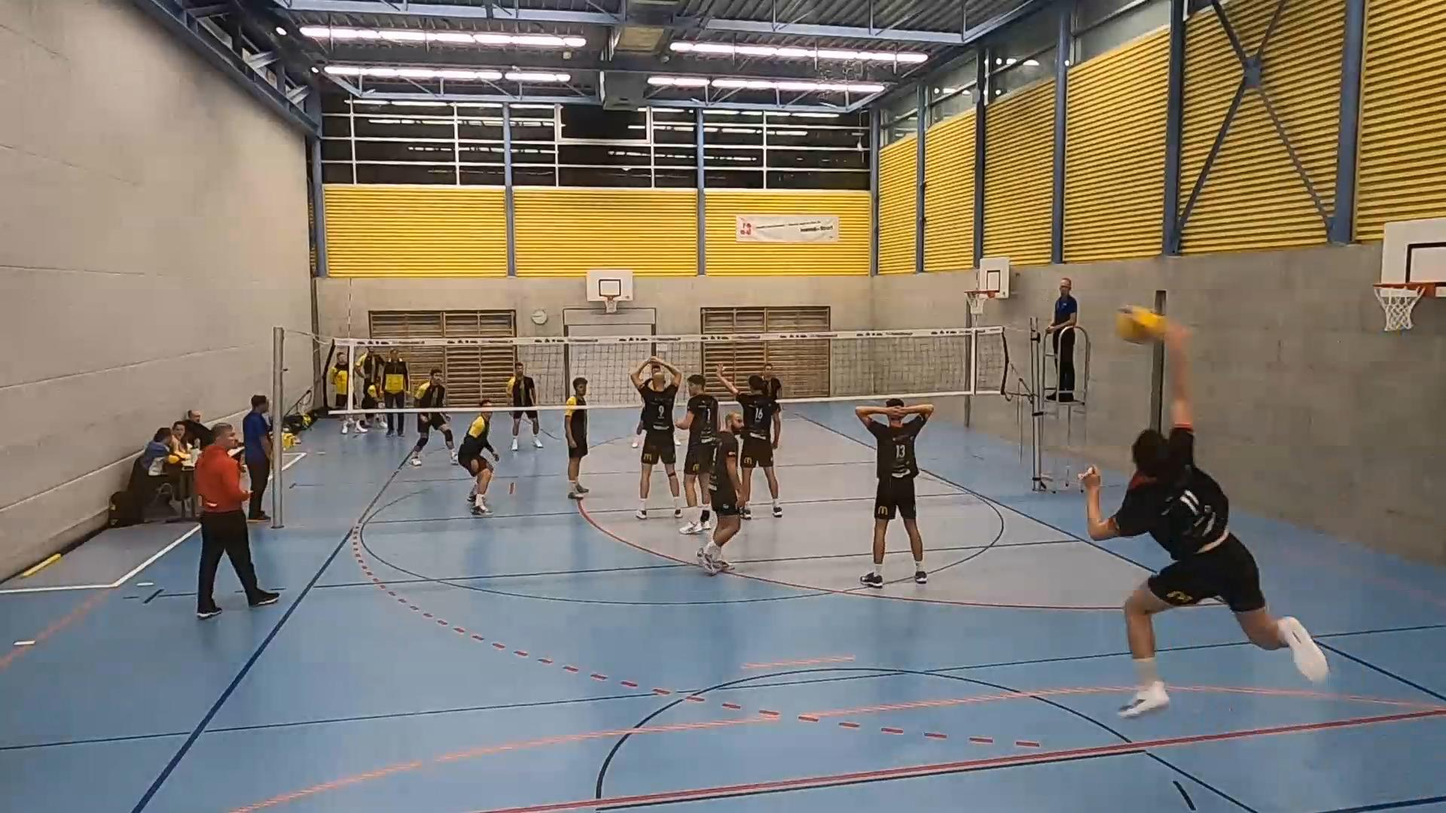battuta: (1042, 310, 1334, 711)
